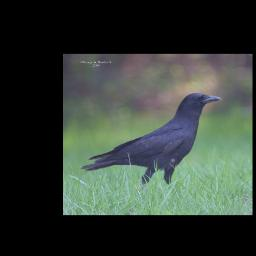Crow: (80, 92, 221, 194)
